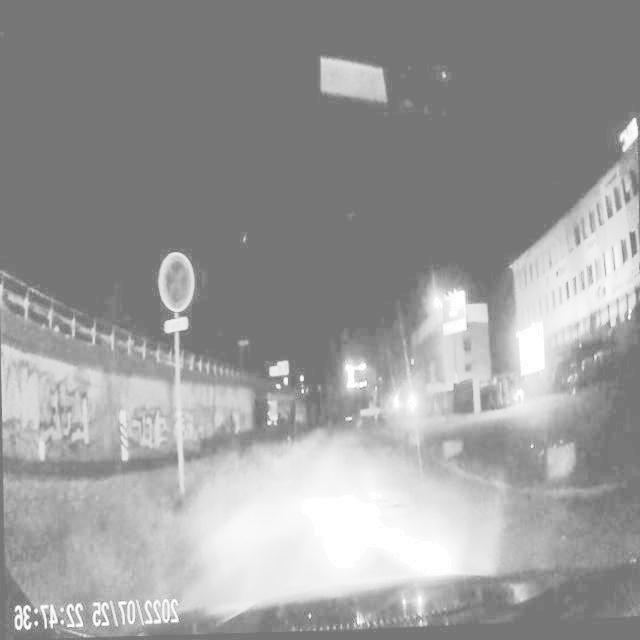Pothole: (366, 494, 408, 521)
